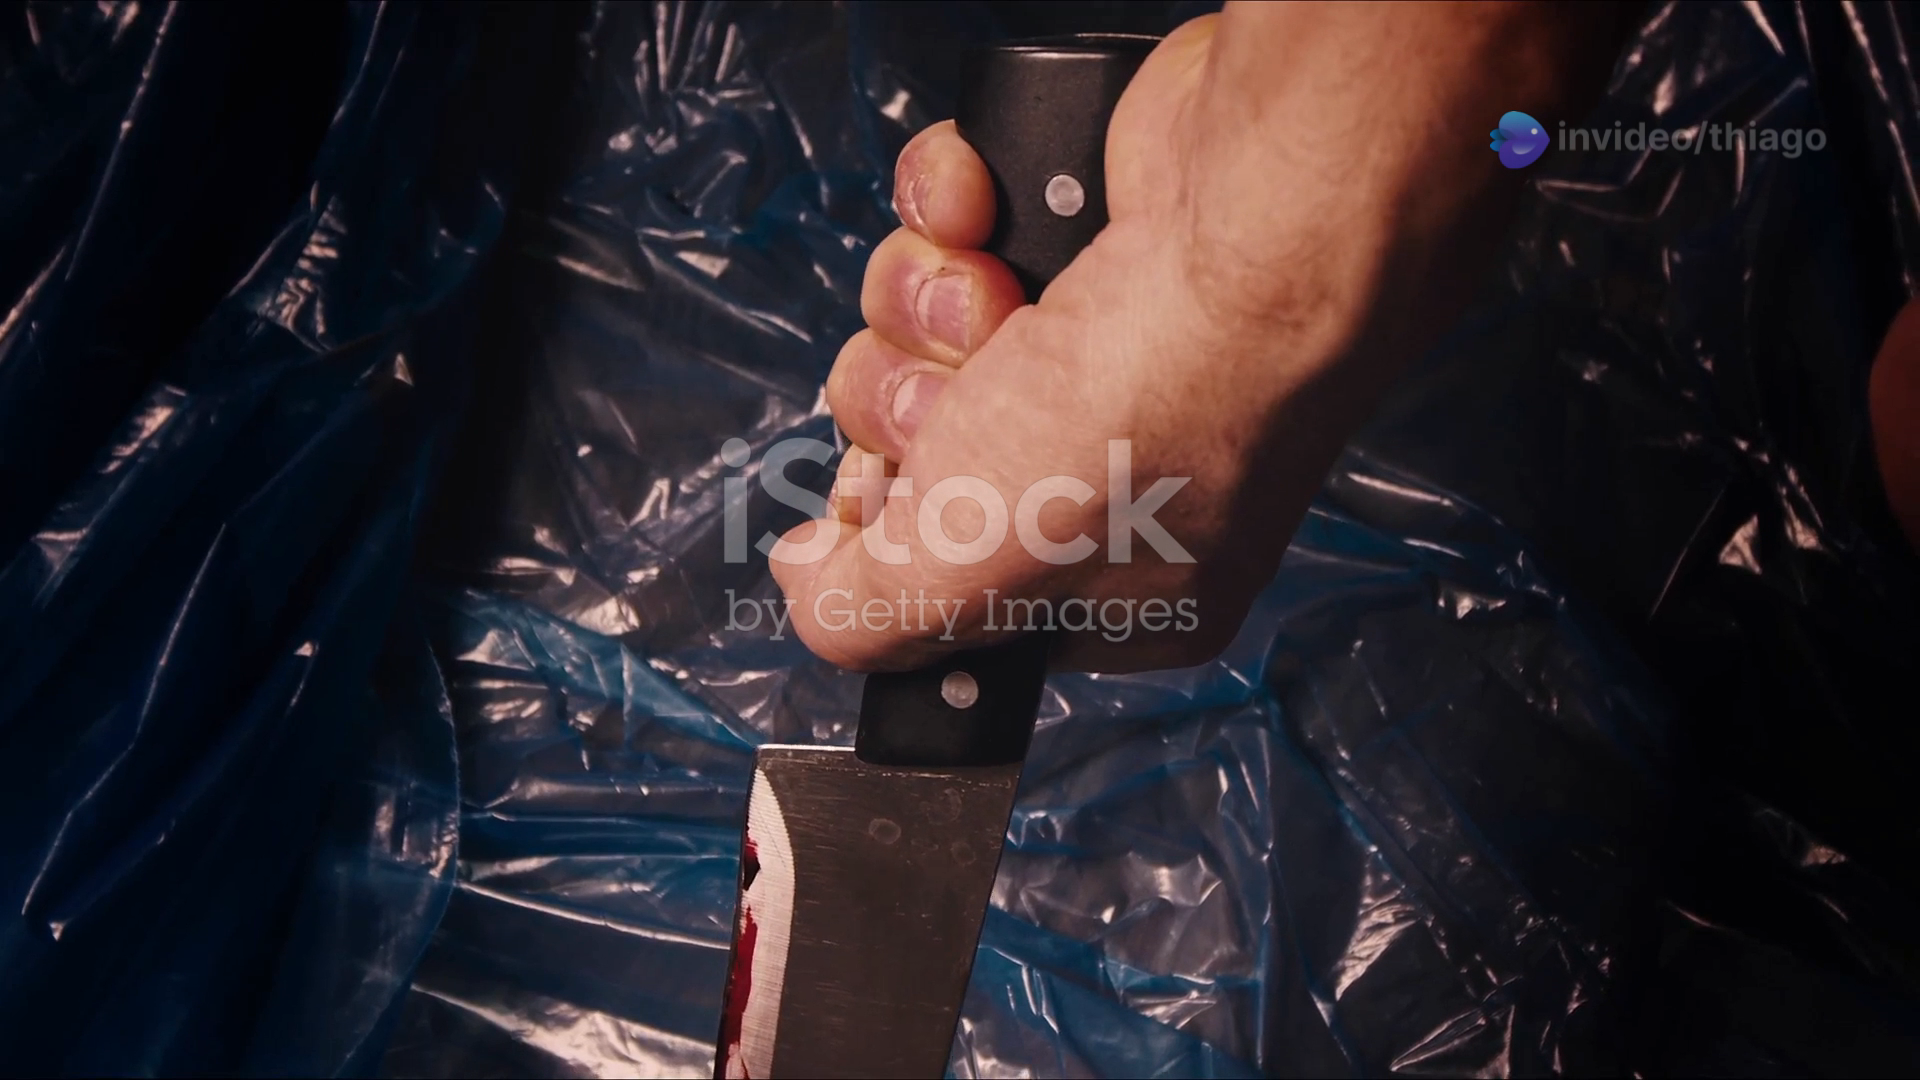cortante: (708, 742, 1026, 1080)
